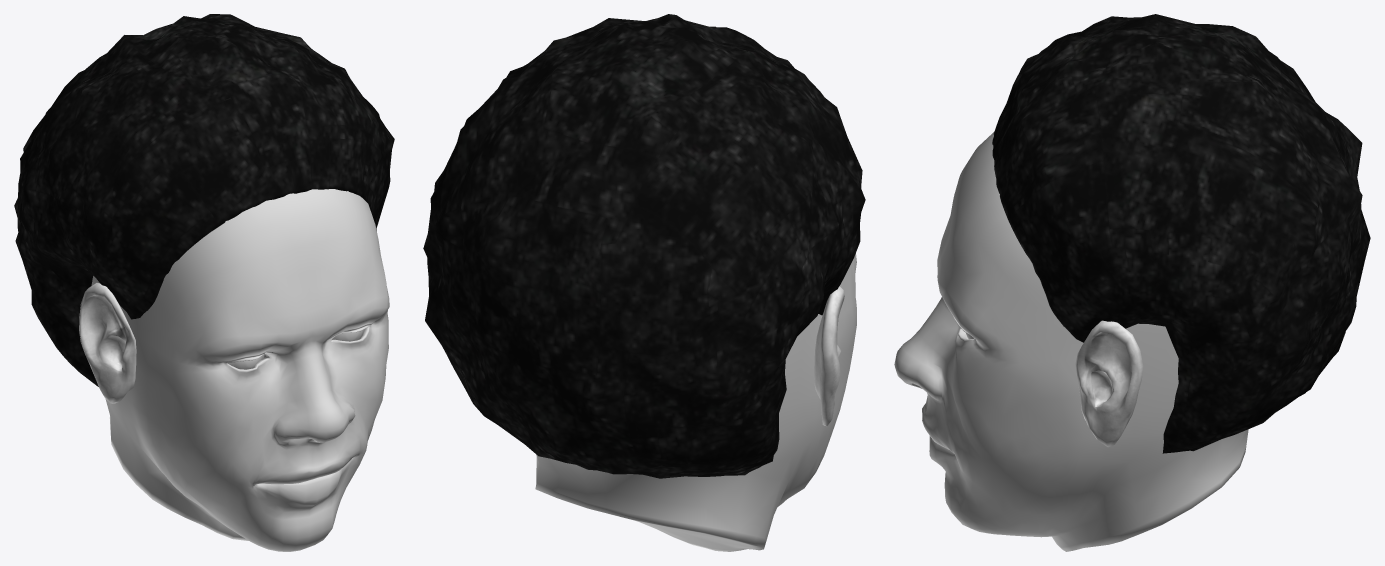
File: Auto3DAvatarObama.gltf
The picture shows the model from 3 angles, left to right: view 1: azimuth 30°, elevation 25°; view 2: azimuth 150°, elevation 25°; view 3: azimuth 270°, elevation 25°; orthographic projection. The views are drawn at different scales.
Parts seen in each view (by area): view 1: geometry, wig104, ears023; view 2: wig104, geometry, ears023; view 3: wig104, geometry, ears023.
Part boxes in pixels (x1,y1,x2,y2): geometry: [91, 189, 389, 551]; wig104: [14, 14, 394, 386]; ears023: [79, 228, 376, 403]; wig104: [423, 14, 865, 478]; geometry: [535, 253, 856, 551]; ears023: [814, 286, 844, 426]; wig104: [992, 14, 1370, 453]; geometry: [894, 132, 1248, 551]; ears023: [1075, 320, 1143, 447].
Size of the model in its own units: 19.69 by 28.05 by 23.55.
3 materials, 2 textured.
